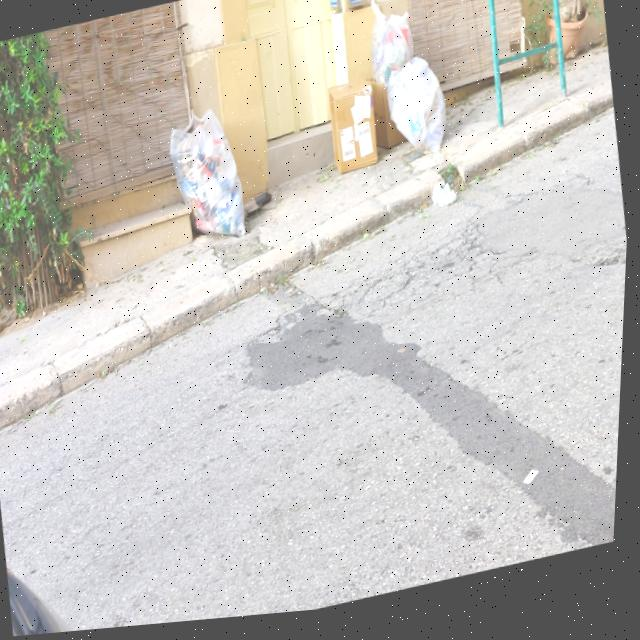Other: (324, 79, 385, 186), (369, 76, 409, 165), (429, 183, 464, 222)
Recycled Waste -Grey or Green Bag-: (163, 103, 257, 259), (383, 58, 460, 178), (367, 1, 424, 99)
